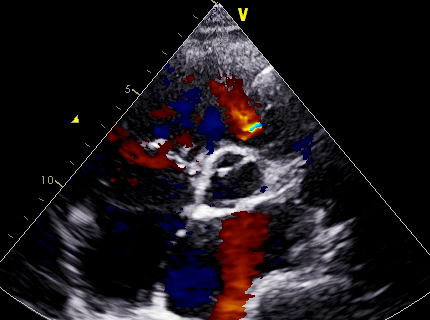TR: (123, 120, 207, 199)
